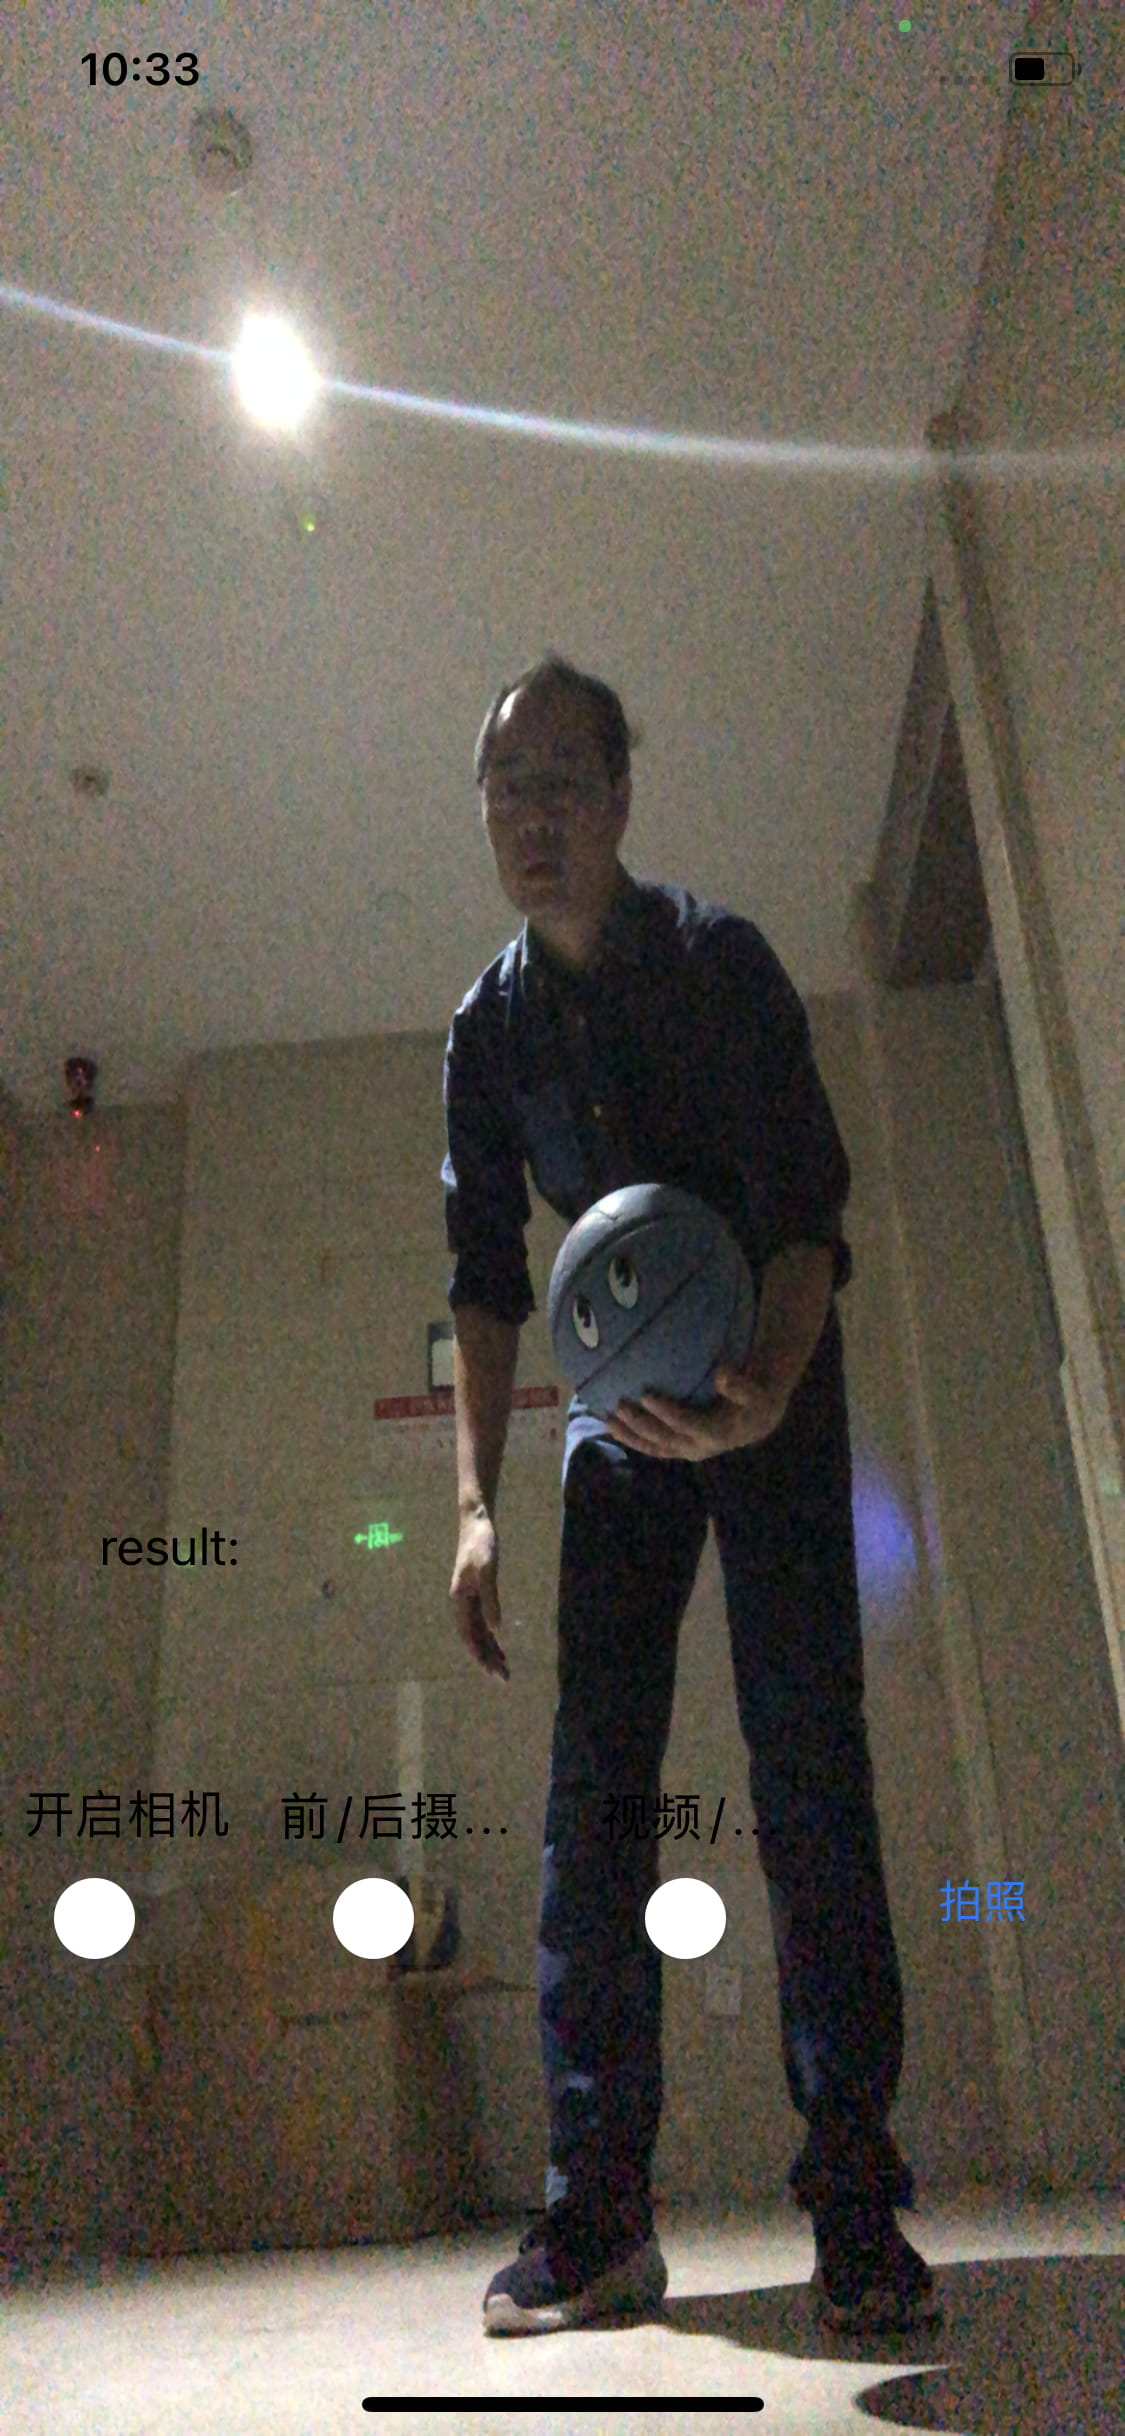ball: (545, 1185, 758, 1428)
